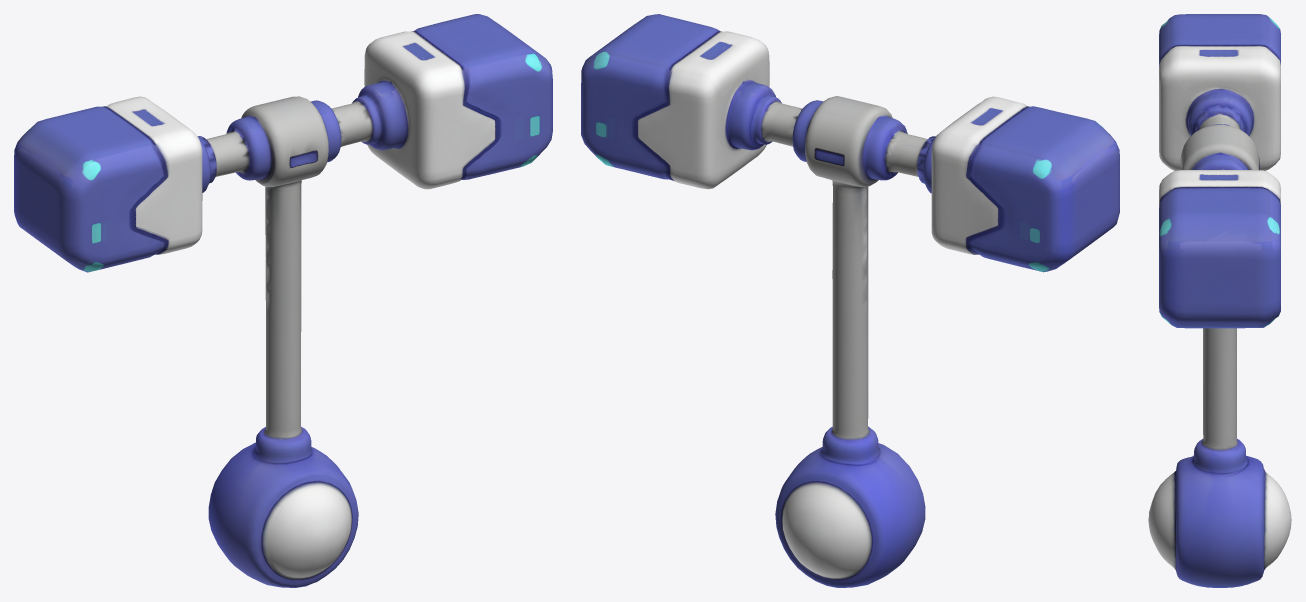
Rendered from Rotator Hammer - A_texture.fbx.
3 renders of one model, left to right at view 1: azimuth 30°, elevation 25°; view 2: azimuth 150°, elevation 25°; view 3: azimuth 270°, elevation 25°, orthographic. The views are drawn at different scales.
Parts seen in each view (by area): view 1: Mesh0; view 2: Mesh0; view 3: Mesh0.
Boxes of the visible parts, box(x1,y1,x2,y2) form: Mesh0: box(14, 14, 552, 587); Mesh0: box(581, 14, 1119, 587); Mesh0: box(1148, 14, 1291, 587).
Size of the model in its own units: 192 by 186 by 51.53.
1 material, 1 textured.
